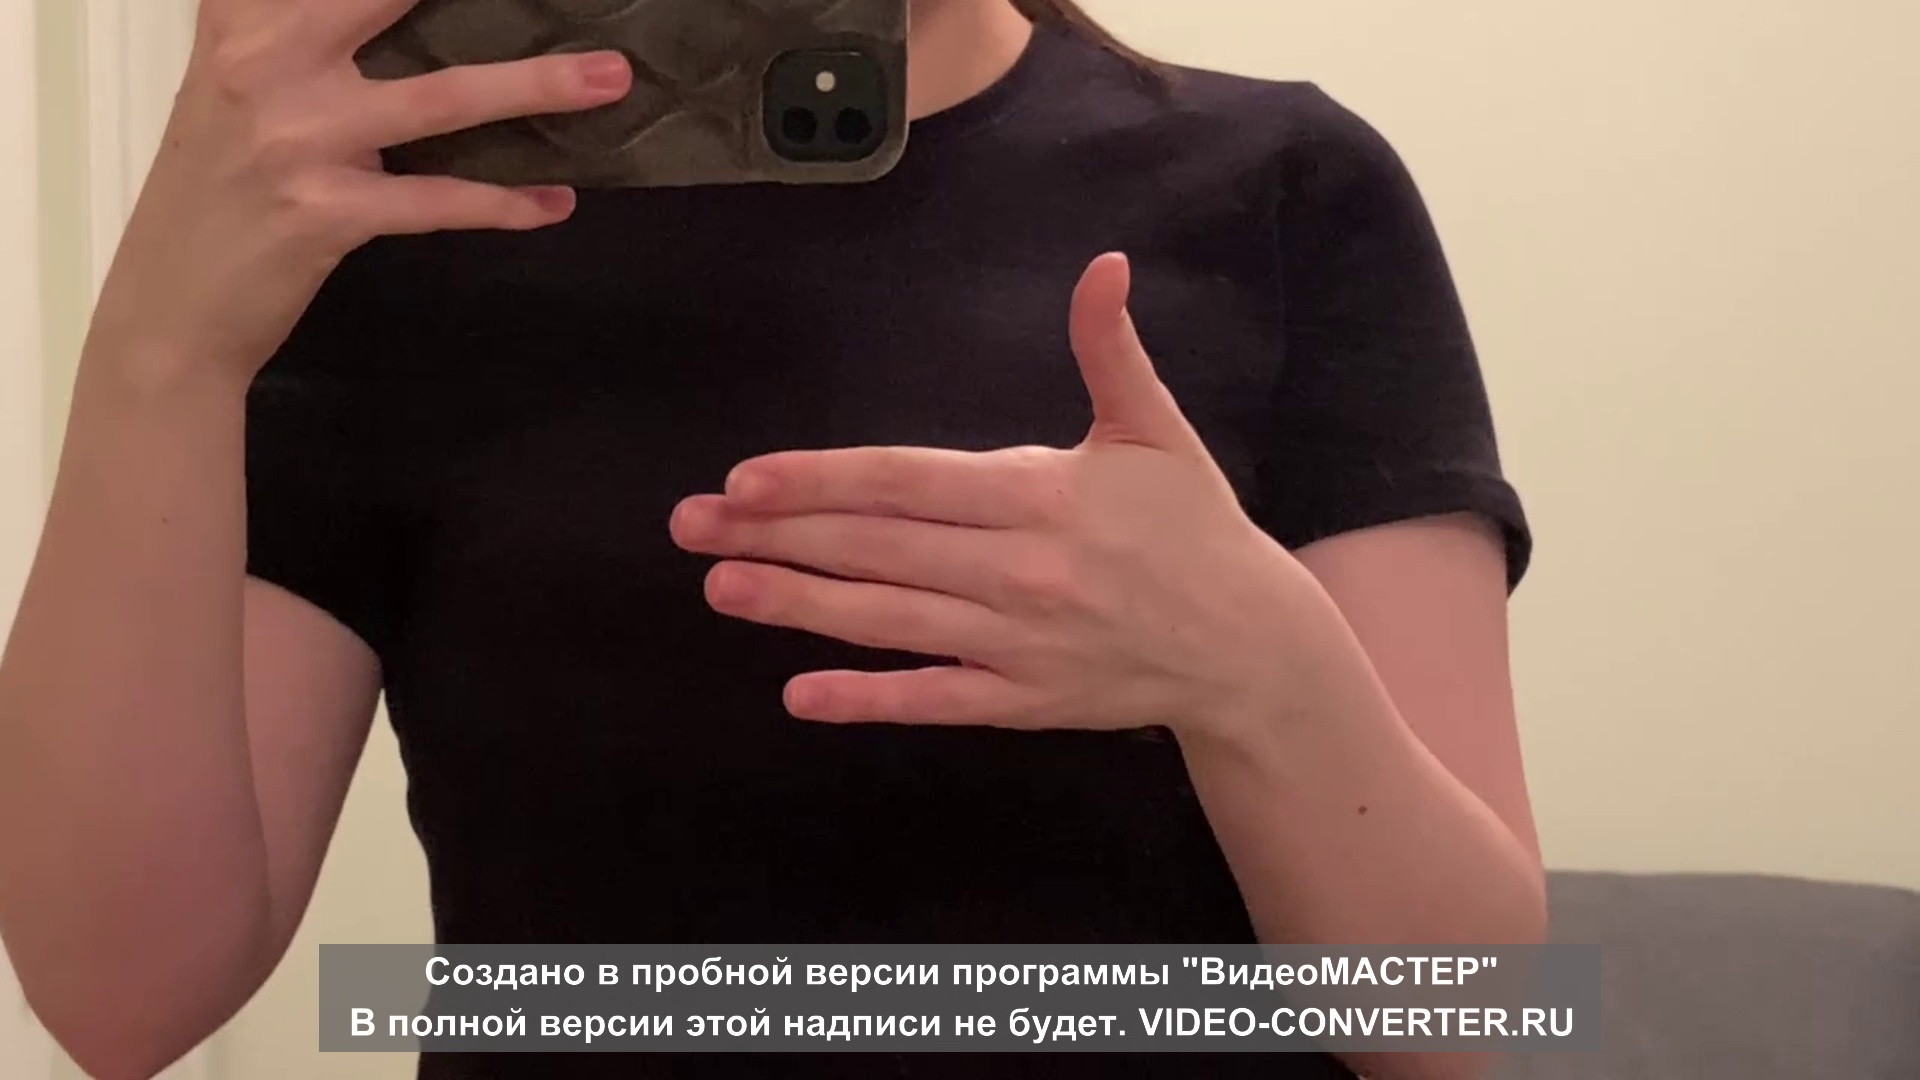Кисть: (666, 251, 1258, 733)
